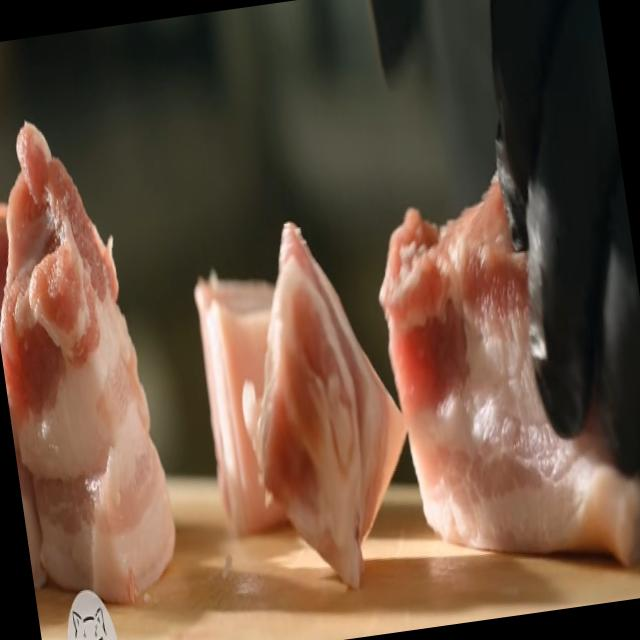--: (0, 98, 192, 615), (175, 200, 412, 603), (362, 163, 588, 558)
